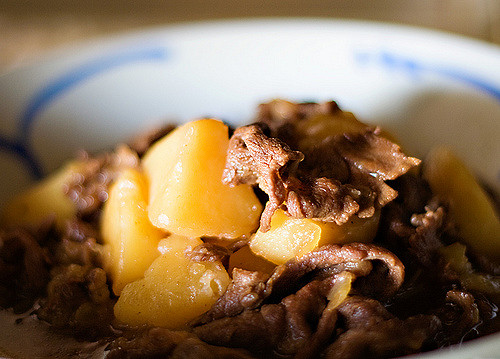boiled potatoes: (149, 129, 238, 233), (109, 193, 164, 285)
